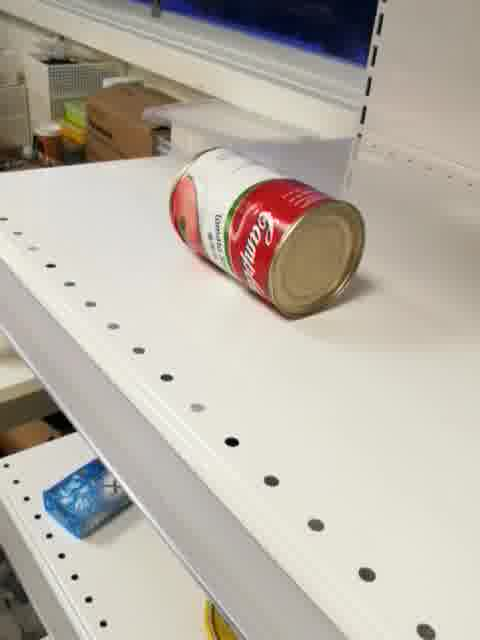tomatosoup: (166, 144, 364, 321)
